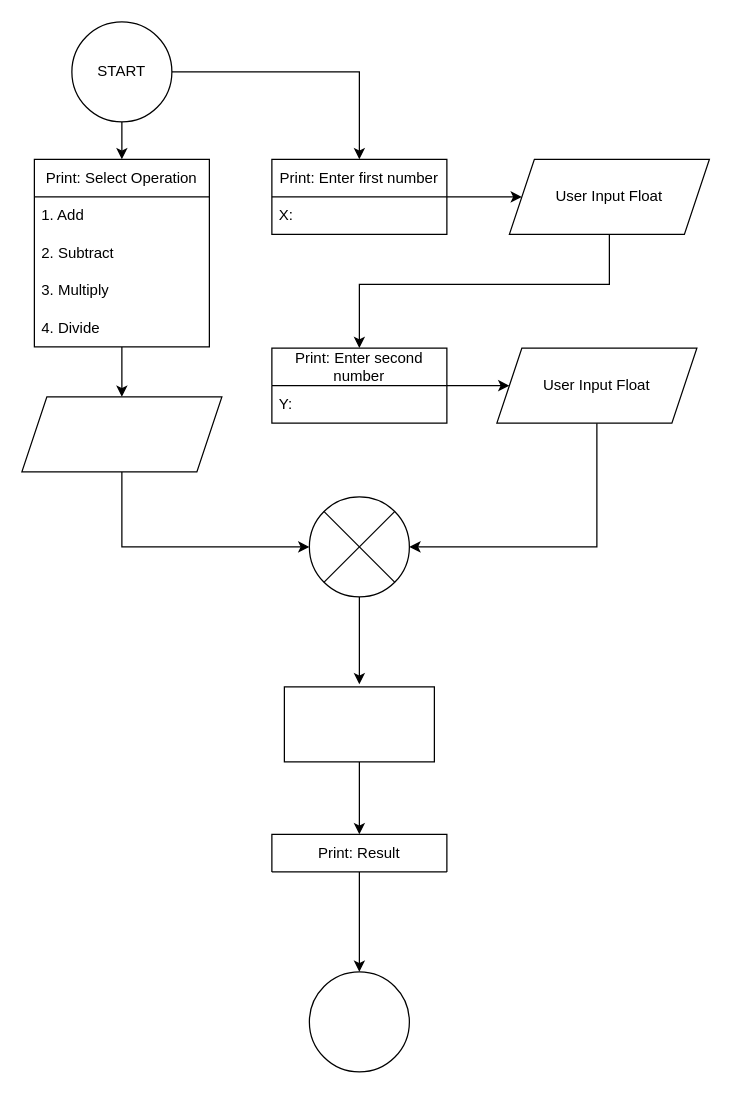
This 731x1094 diagram has some shape labels left out. Each missing label, with the centre of its shape:
"Calculation" goes at (358,724).
"STOP" goes at (358,1021).
"User Input:1,2,3 or 4" goes at (121,434).
